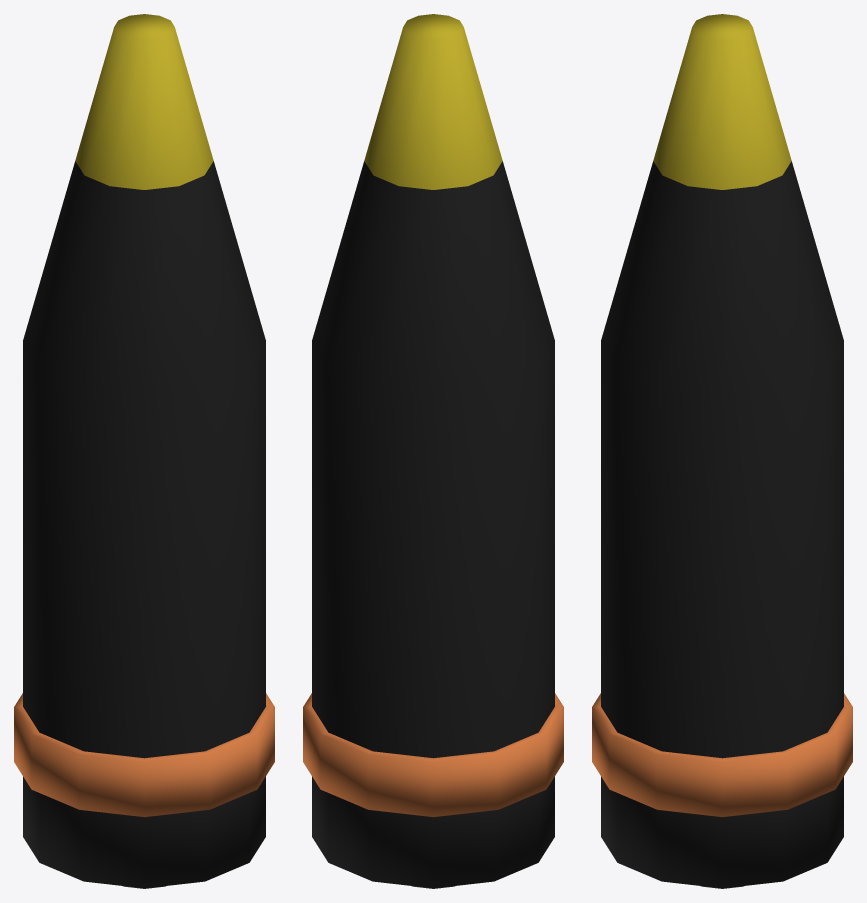
The model's file is apc.glb.
The picture shows the model from 3 angles, left to right: view 1: azimuth 30°, elevation 25°; view 2: azimuth 150°, elevation 25°; view 3: azimuth 270°, elevation 25°; orthographic projection.
Visible parts, largest first — view 1: shell; view 2: shell; view 3: shell.
Boxes of the visible parts, box(x1,y1,x2,y2) form: shell: box(14, 14, 274, 888); shell: box(303, 14, 563, 888); shell: box(592, 14, 852, 888).
Size of the model in its own units: 0.078 by 0.2786 by 0.078.
